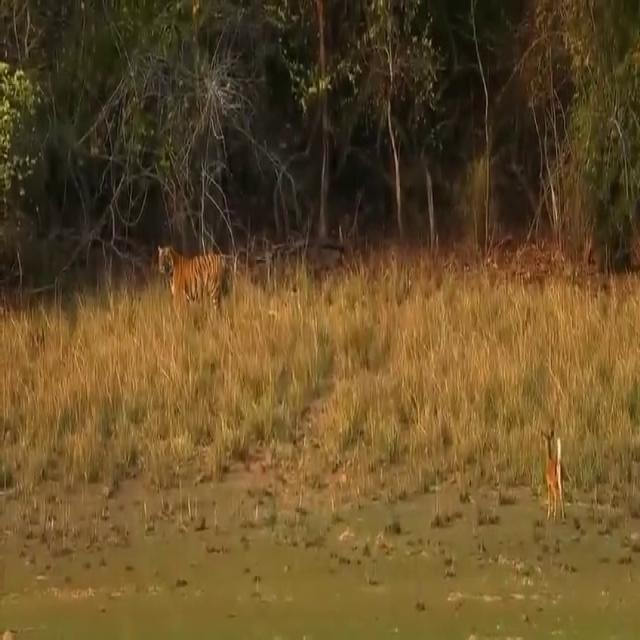tiger: (158, 244, 233, 316)
